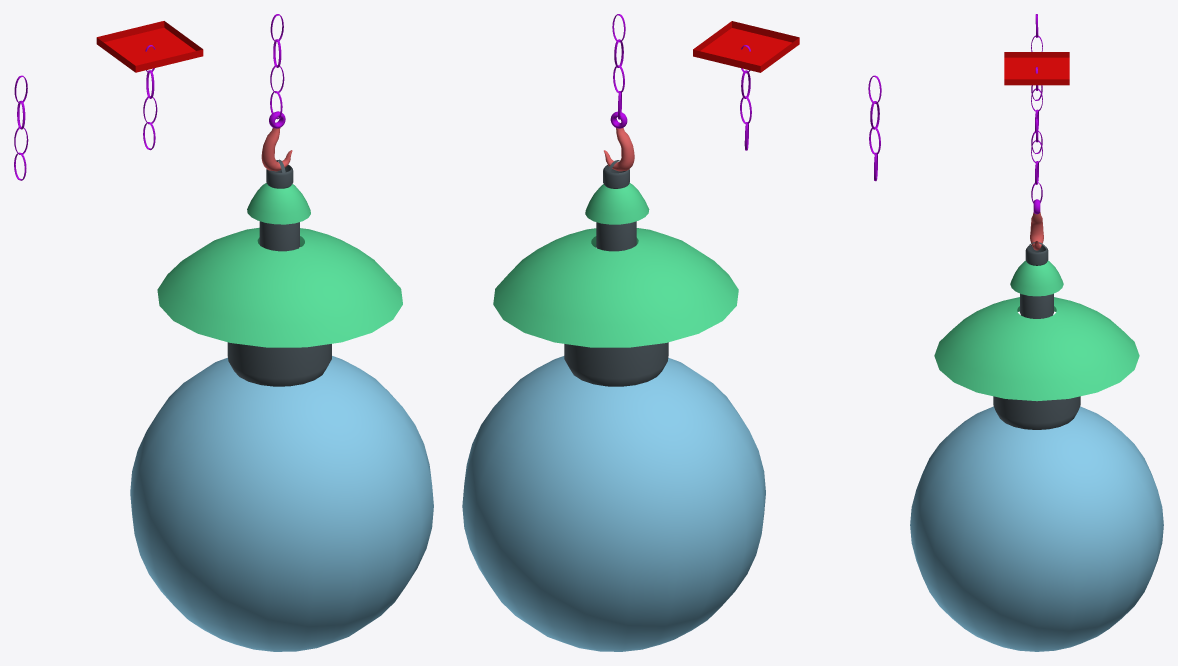
Rendered from Light_and_Chains.fbx.
3 views of the same model, side by side, from view 1: azimuth 30°, elevation 25°; view 2: azimuth 150°, elevation 25°; view 3: azimuth 270°, elevation 25° (orthographic). The views are drawn at different scales.
Parts seen in each view (by area): view 1: Lamp4, Lamp3; view 2: Lamp4, Lamp3; view 3: Lamp4, Lamp3.
Part boxes in pixels (x1,y1,x2,y2): Lamp4: [130, 14, 433, 651]; Lamp3: [96, 21, 203, 150]; Lamp4: [462, 14, 765, 651]; Lamp3: [693, 21, 799, 150]; Lamp4: [910, 118, 1163, 651]; Lamp3: [1004, 52, 1069, 153].
Size of the model in its own units: 60.39 by 90.33 by 40.
